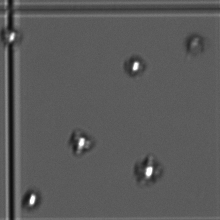Dead Cell: (185, 28, 207, 63)
Living Cell: (67, 126, 99, 161), (133, 151, 160, 187), (121, 50, 149, 78), (20, 185, 47, 213), (2, 23, 28, 47)
